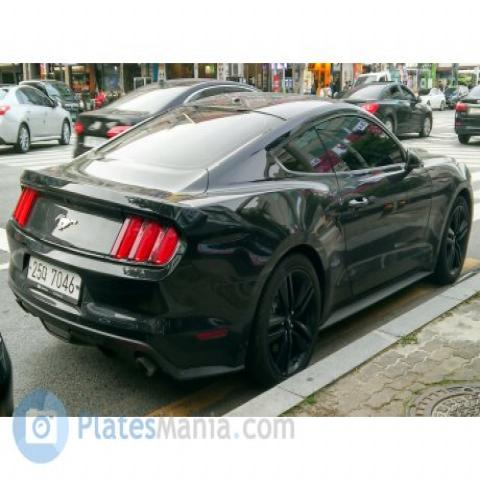LP: (15, 245, 92, 309)
